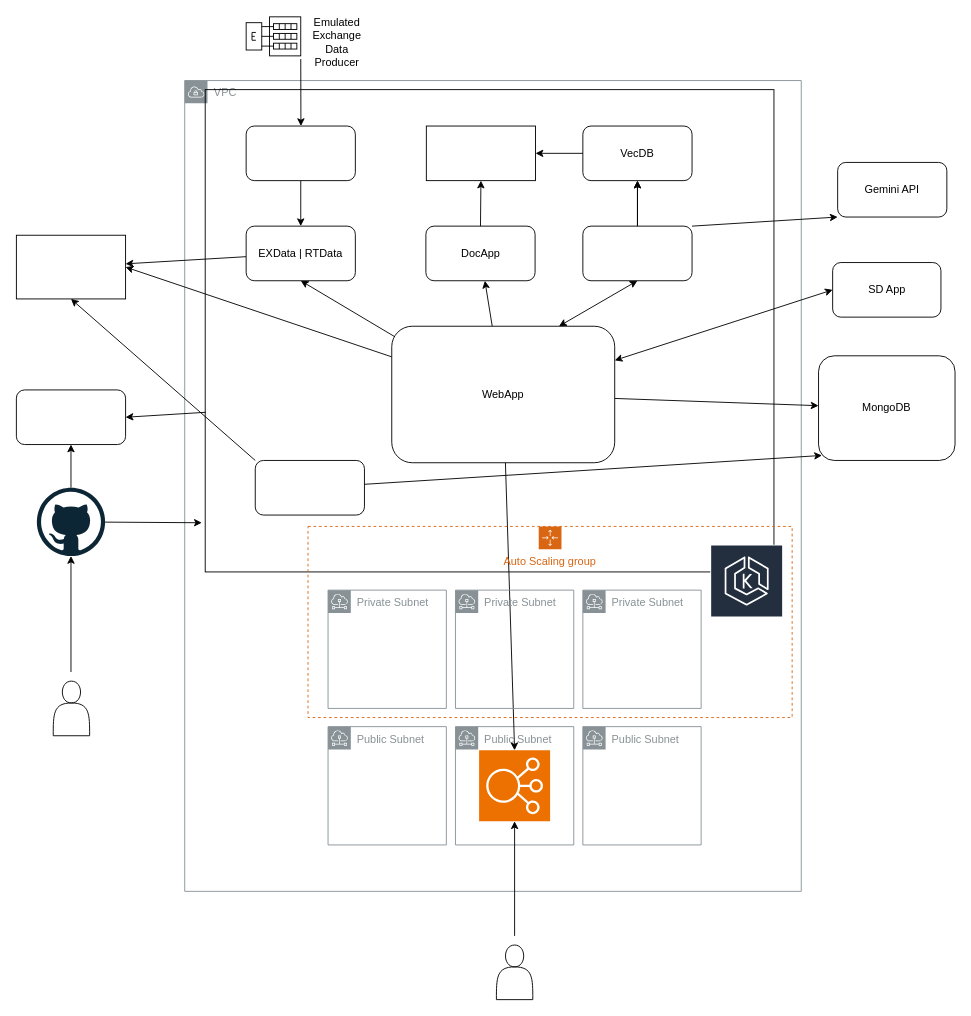
Some shapes in this 971 by 1016 pixel diagram are drawn without their labels. Here are the shapes that lost their labels. From the top down, the centre of each, then its label:
the point at 300,153: Kafka
the point at 480,153: MD files
the point at 70,266: Market Data API YFinance Alpaca IBKR
the point at 637,253: Agent
the point at 70,417: Image Artifact
the point at 309,487: Risk Index Model
the point at 746,590: Amazon EKS
